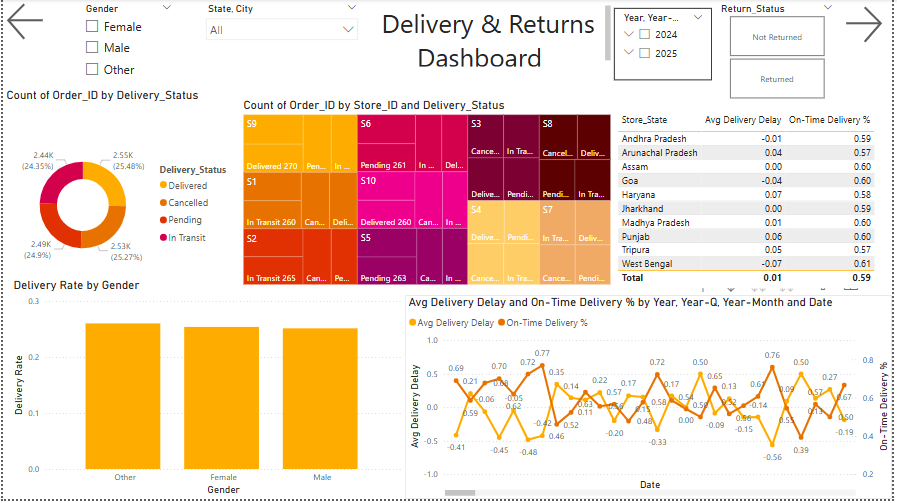

This screenshot's page, from the dashboard's own definition file:
{"tool":"powerbi","page":{"name":"Delivery & Returns","canvas":[1280,720],"ordinal":5},"visuals":[{"type":"slicer","fields":{"Values":["Customers.Gender"]},"box":[106.6,0,148.3,128.2],"z":0},{"type":"slicer","fields":{"Values":["Customers.State Hierarchy.State","Customers.State Hierarchy.City"]},"box":[282.2,0,239,103.7],"z":1000},{"type":"textbox","box":[540,4.3,339.8,97.9],"z":2000},{"type":"slicer","fields":{"Values":["DateTable.Year Hierarchy.Year","DateTable.Year Hierarchy.Year-Month"]},"box":[879.8,13,141.1,103.7],"z":3000},{"type":"lineChart","fields":{"Y":["Orders.Avg Delivery Delay"],"Category":["DateTable.Year Hierarchy.Year","DateTable.Year Hierarchy.Year-Q","DateTable.Year Hierarchy.Year-Month","DateTable.Year Hierarchy.Date"],"Y2":["Orders.On-Time Delivery %"]},"box":[578.9,426.2,701.3,293.8],"z":4000},{"type":"donutChart","fields":{"Y":["CountNonNull(Orders.Order_ID)"],"Category":["Orders.Delivery_Status"]},"box":[0,128.2,341.3,318.2],"z":5000},{"type":"clusteredColumnChart","fields":{"Y":["Orders.Delivery Rate"],"Category":["Customers.Gender"]},"box":[10.1,401.8,568.8,318.2],"z":6000},{"type":"treemap","fields":{"Values":["CountNonNull(Orders.Order_ID)"],"Group":["Orders.Store_ID"],"Details":["Orders.Delivery_Status"]},"box":[341.3,142.6,538.6,273.6],"z":7000},{"type":"tableEx","fields":{"Values":["Stores.Store_State","Orders.Avg Delivery Delay","Orders.On-Time Delivery %"]},"box":[879.8,158.4,400.3,257.8],"z":8000},{"type":"actionButton","box":[1206.7,4.3,73.4,64.8],"z":9000},{"type":"actionButton","box":[0,0,73.4,64.8],"z":10000},{"type":"slicer","fields":{"Values":["Orders.Return_Status"]},"box":[1021,0,186,150],"z":11000}]}

Visuals, with their boxes in screenshot pixels (x1, y1, x2, y2), scaled from the page's 1280x720 canvas onto the 897x503 screenshot:
slicer - Customers.Gender: bbox=(75, 0, 179, 90)
slicer - Customers.State Hierarchy.State x Customers.State Hierarchy.City: bbox=(198, 0, 365, 72)
textbox: bbox=(378, 3, 617, 71)
slicer - DateTable.Year Hierarchy.Year x DateTable.Year Hierarchy.Year-Month: bbox=(617, 9, 715, 82)
lineChart - Orders.Avg Delivery Delay x DateTable.Year Hierarchy.Year: bbox=(406, 298, 896, 502)
donutChart - CountNonNull(Orders.Order_ID) x Orders.Delivery_Status: bbox=(0, 90, 239, 312)
clusteredColumnChart - Orders.Delivery Rate x Customers.Gender: bbox=(7, 281, 406, 502)
treemap - CountNonNull(Orders.Order_ID) x Orders.Store_ID: bbox=(239, 100, 617, 291)
tableEx - Stores.Store_State x Orders.Avg Delivery Delay: bbox=(617, 111, 896, 291)
actionButton: bbox=(846, 3, 896, 48)
actionButton: bbox=(0, 0, 51, 45)
slicer - Orders.Return_Status: bbox=(715, 0, 846, 105)
